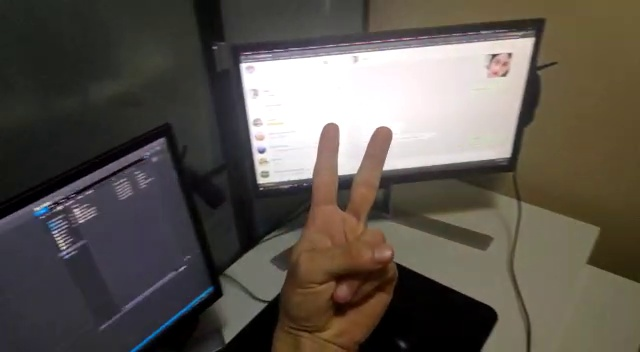Peace: (269, 119, 405, 347)
